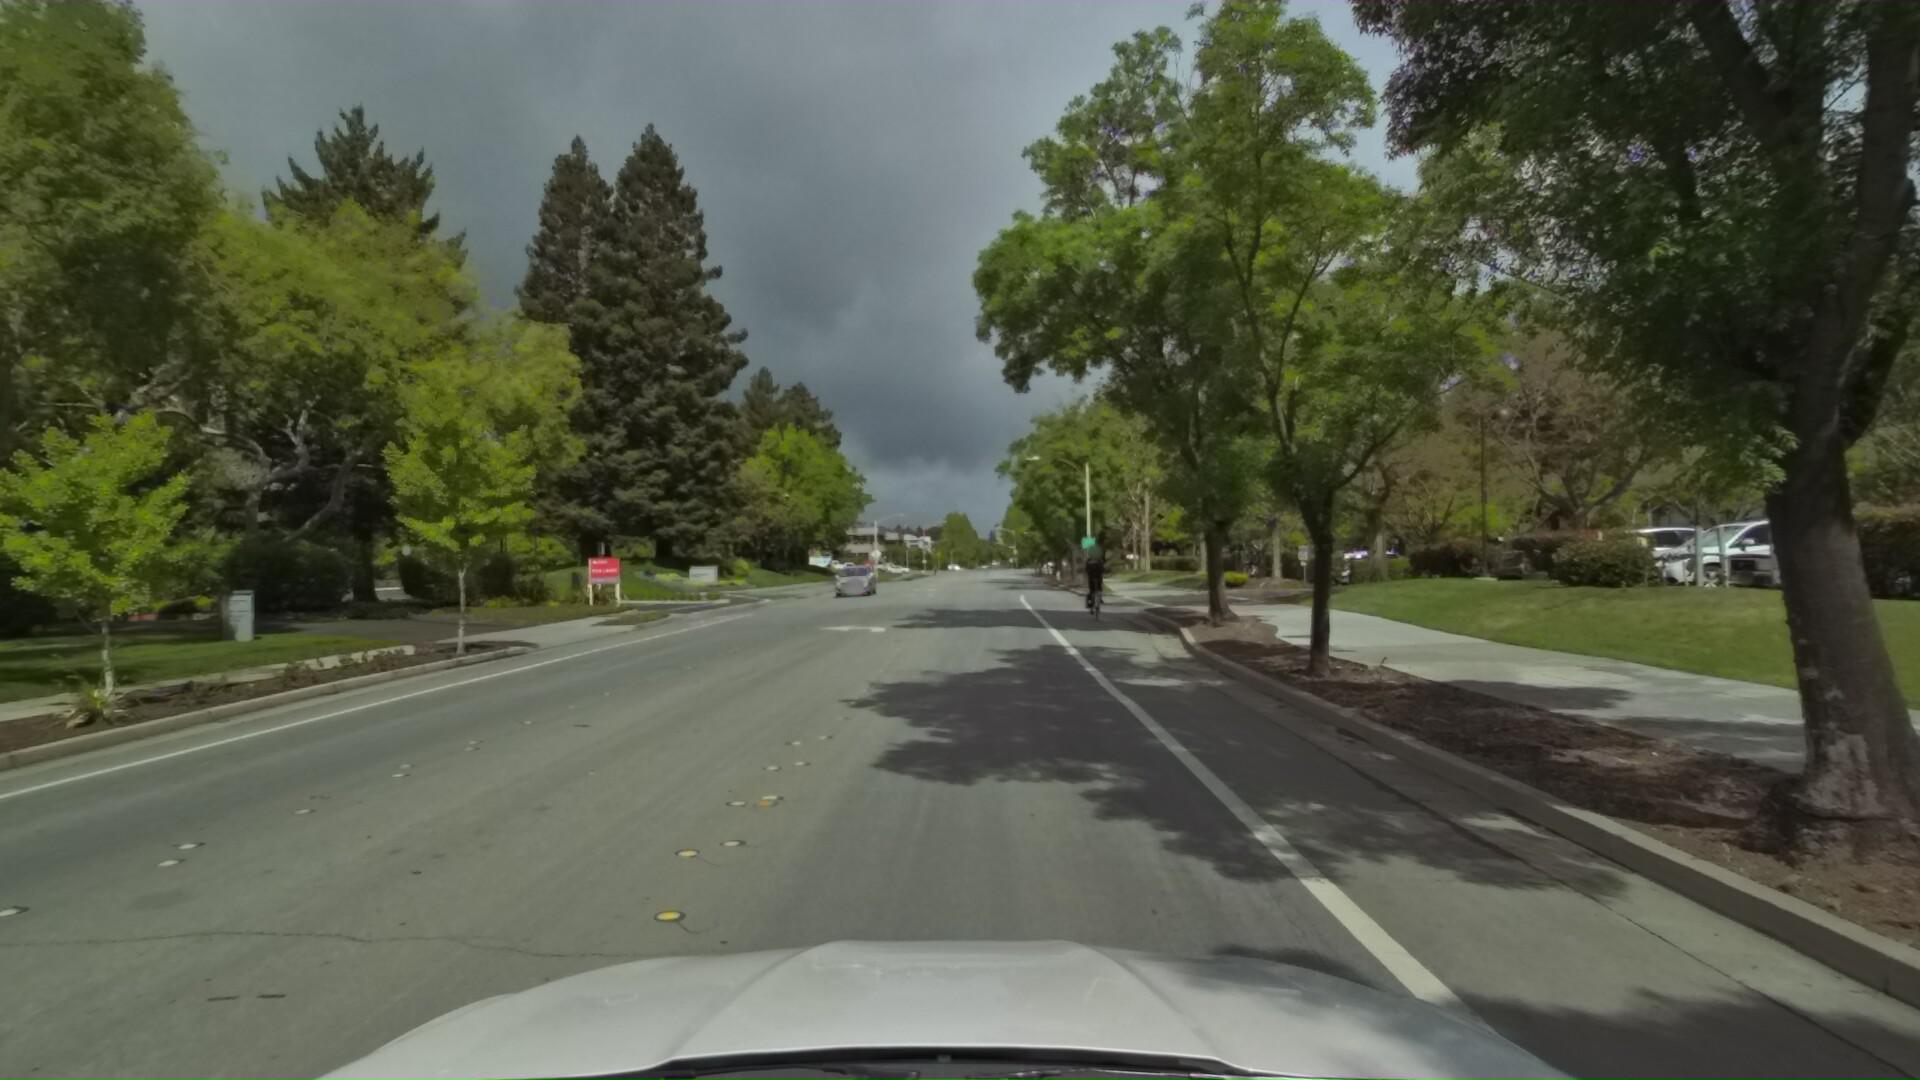bicycle: (1072, 546, 1113, 621)
car: (825, 559, 873, 595)
